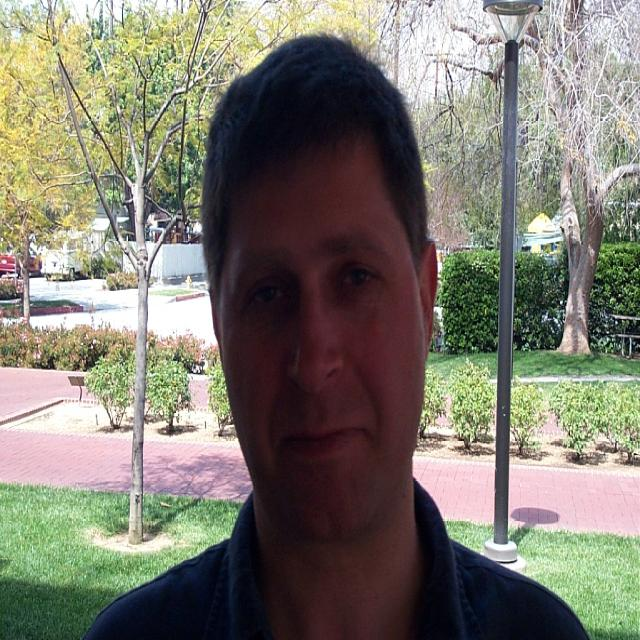sem_oculos: (207, 234, 451, 335)
